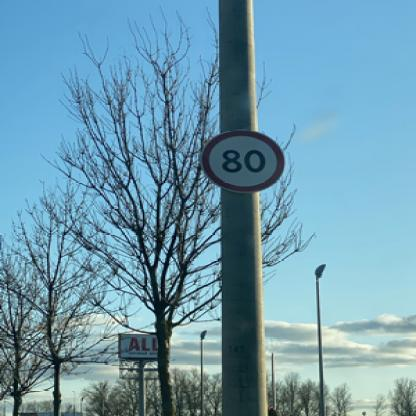Speed Limit 80: (205, 130, 287, 194)
